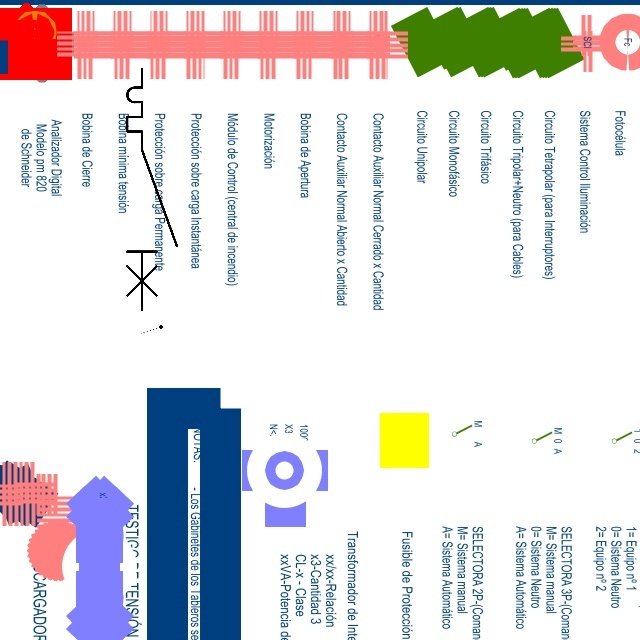interruptor_termomagnetico: (121, 63, 183, 316)
